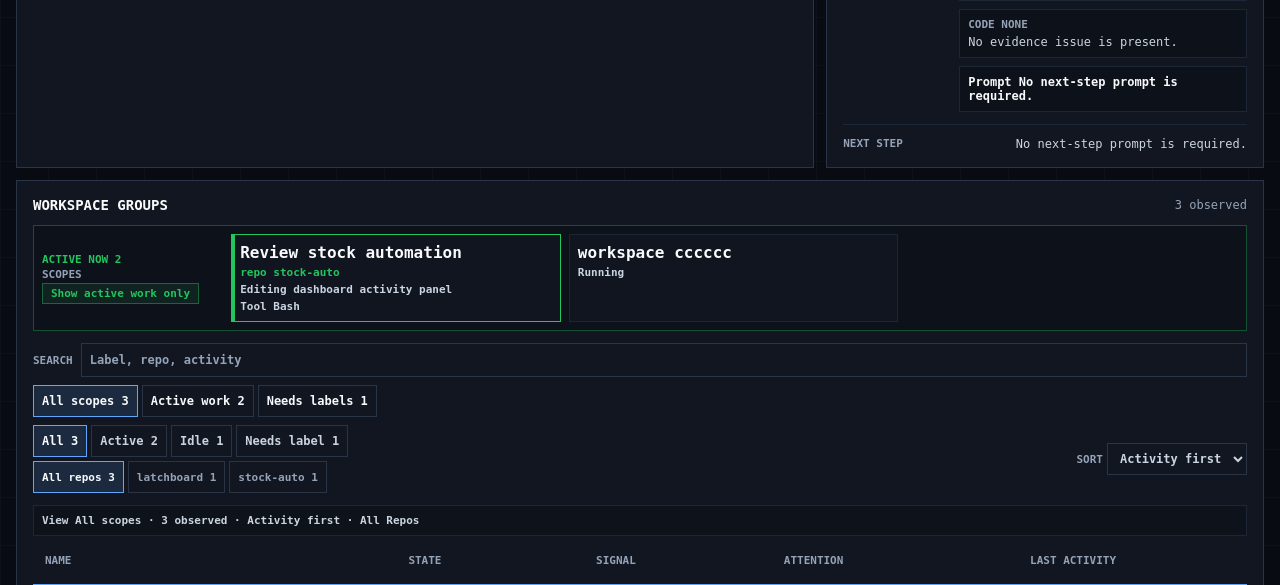
it: AppView › summarizes the current workspace view and resets every view control
The width and height of the screenshot is (1280, 585).
(page scrolled)
expect the element named "Workspace view summary" shows "View All scopes": met, box [42, 514, 420, 527]
expect the element named "Workspace view summary" shows "3 observed": met, box [42, 514, 420, 527]
Type "stock-auto" into the search field named "Search workspace groups" at (664,360), box [81, 343, 1247, 377]
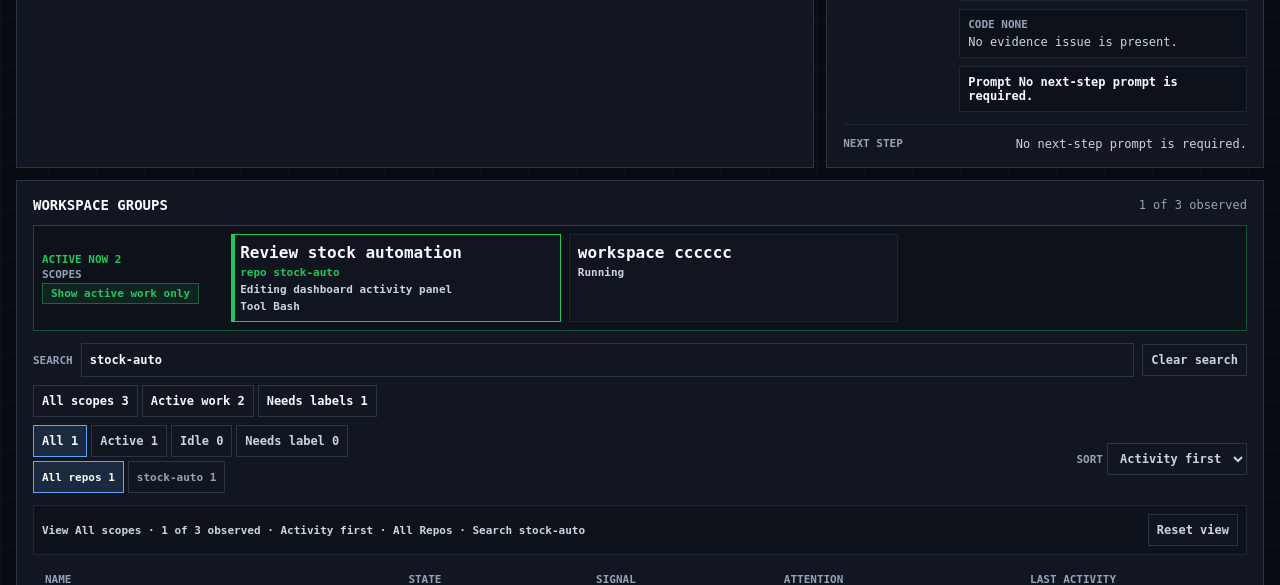
Select "Repo" in the dropdown named "Sort workspace groups" at (1177,459), box [1107, 443, 1247, 475]
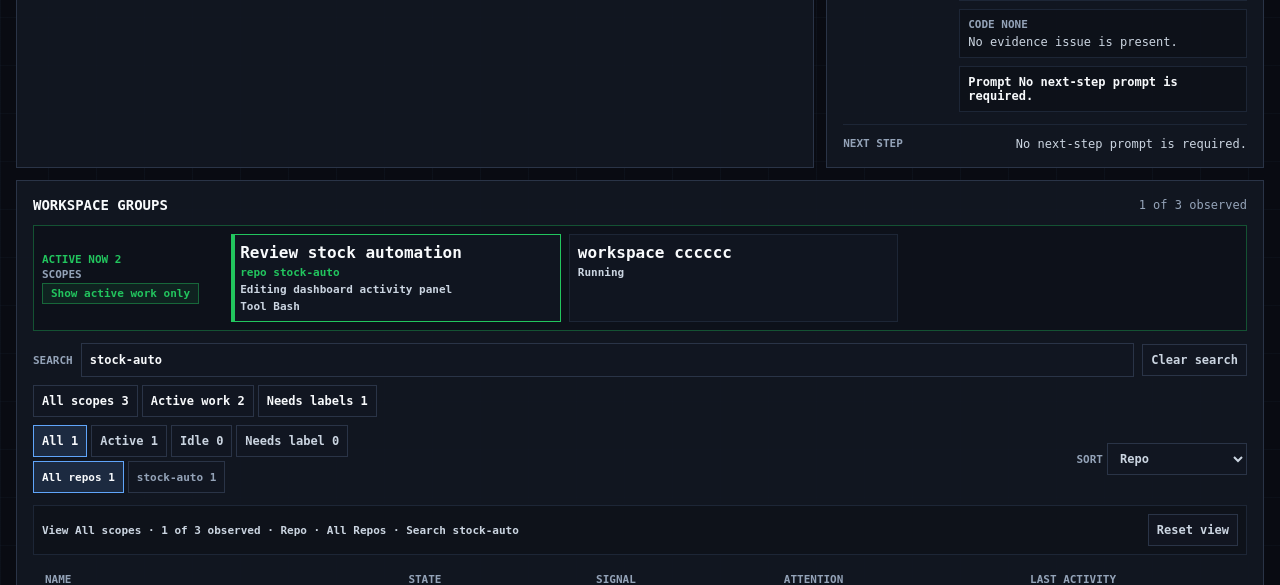
Click the button "stock-auto 1" at (177,477), box [128, 461, 225, 493]
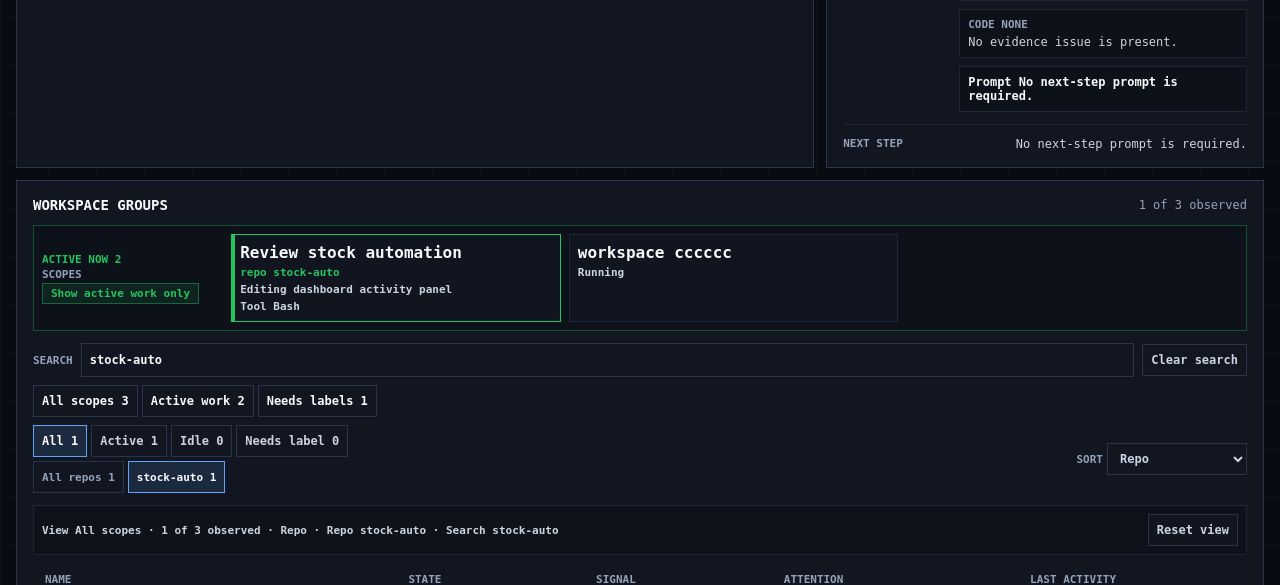
expect the element named "Workspace view summary" shows "1 of 3 observed": met, box [42, 524, 559, 536]
expect the element named "Workspace view summary" shows "Search stock-auto": met, box [42, 524, 559, 536]
expect the element named "Workspace view summary" shows "Repo stock-auto": met, box [42, 524, 559, 536]
Click the button "Reset view" at (1193,530), box [1148, 514, 1238, 546]
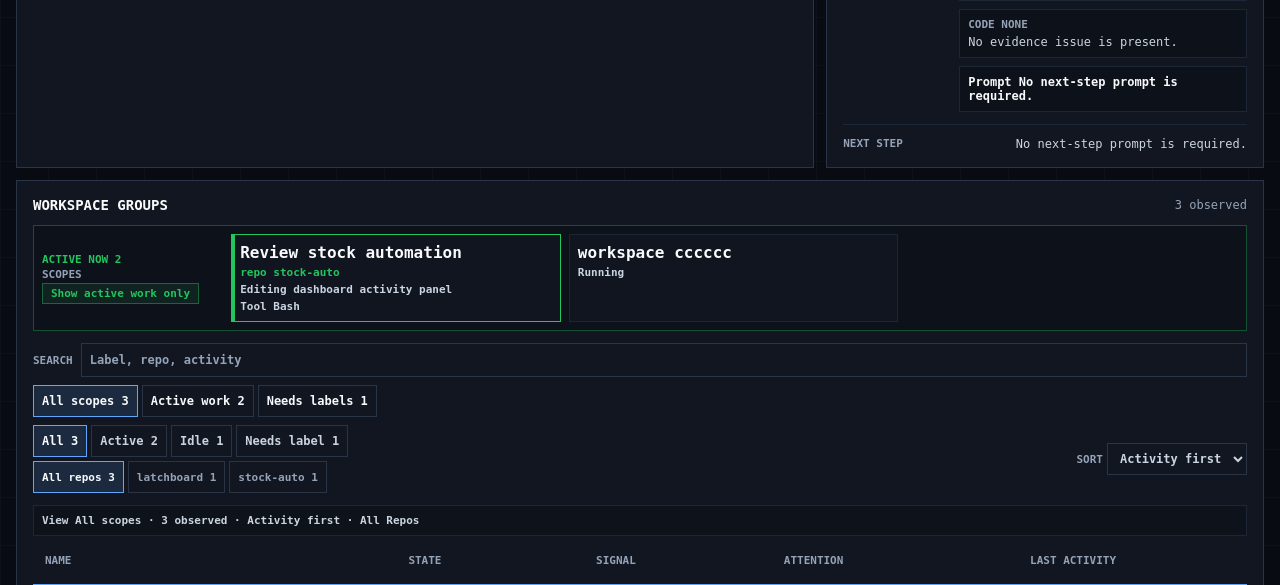
expect the search field named "Search workspace groups" is empty: met, box [81, 343, 1247, 377]
expect the element named "Workspace view summary" shows "Activity first": met, box [42, 514, 420, 527]
expect the element named "Workspace view summary" shows "All Repos": met, box [42, 514, 420, 527]
